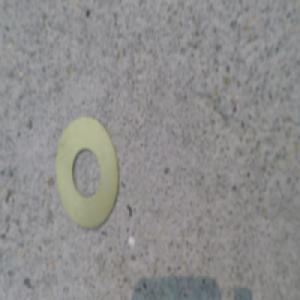Washer: (55, 113, 120, 228)
